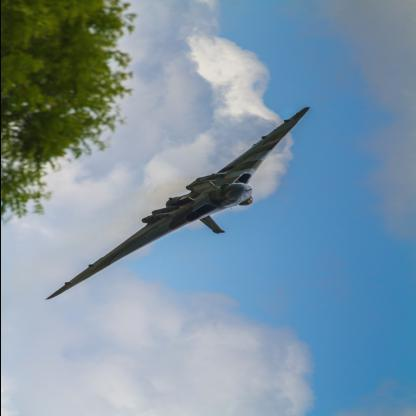aircraft: (43, 105, 313, 302)
